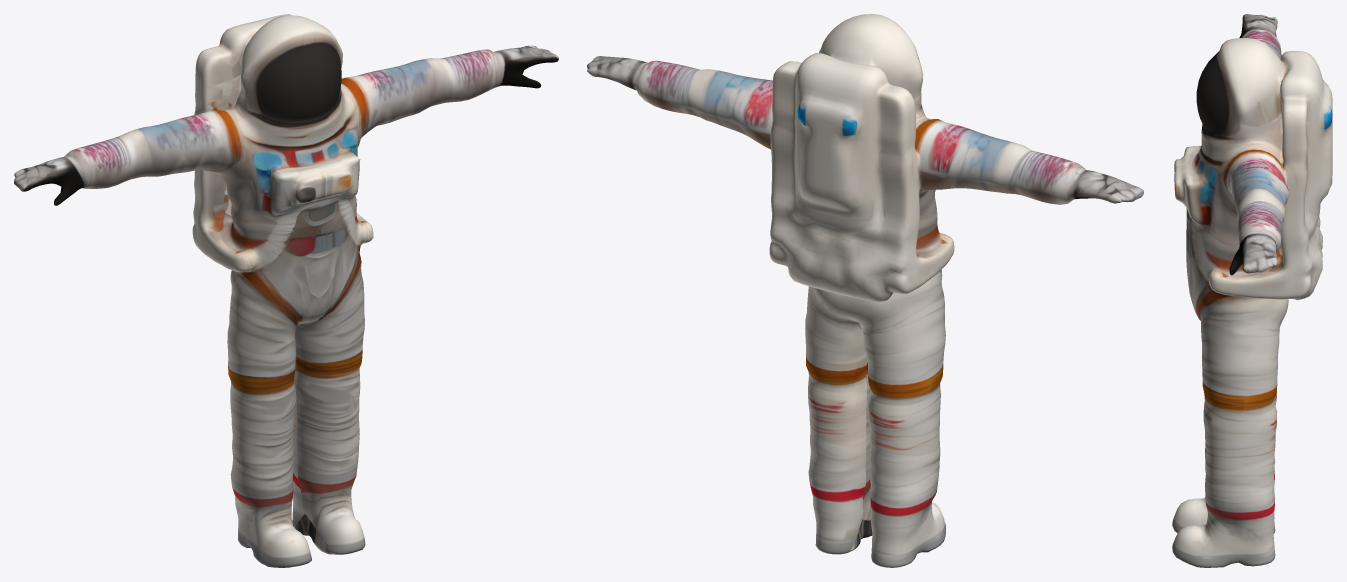
The model's file is kim-character.glb.
3 renders of one model, left to right at view 1: azimuth 30°, elevation 25°; view 2: azimuth 150°, elevation 25°; view 3: azimuth 270°, elevation 25°, orthographic. The views are drawn at different scales.
Visible parts, largest first — view 1: model; view 2: model; view 3: model.
Part boxes in pixels (x1,y1,x2,y2): model: [14, 14, 558, 567]; model: [587, 14, 1143, 567]; model: [1172, 14, 1332, 567].
Size of the model in its own units: 1.89 by 1.75 by 0.5045.
1 material, 1 textured.
